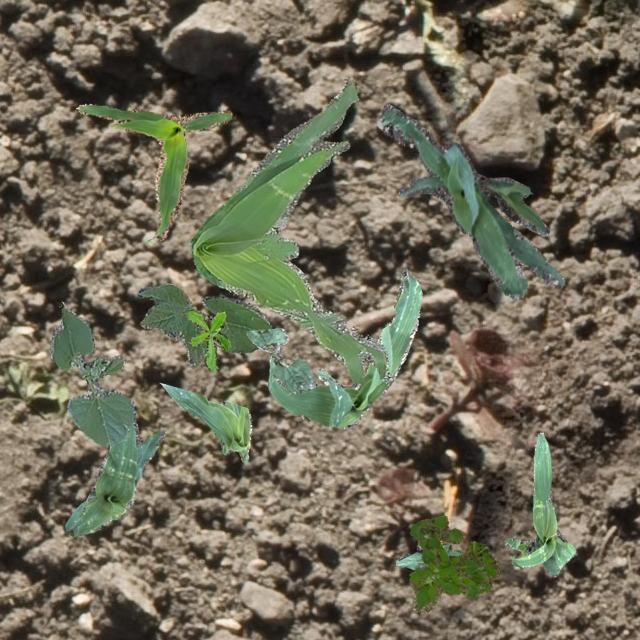crop: (376, 104, 564, 298), (266, 268, 421, 428), (74, 103, 230, 240), (49, 302, 134, 446), (64, 416, 164, 536), (136, 282, 270, 368), (504, 432, 574, 576), (160, 382, 250, 462), (246, 327, 314, 392), (394, 542, 462, 568)
weed: (188, 78, 390, 382), (408, 514, 501, 612), (186, 308, 230, 369)
